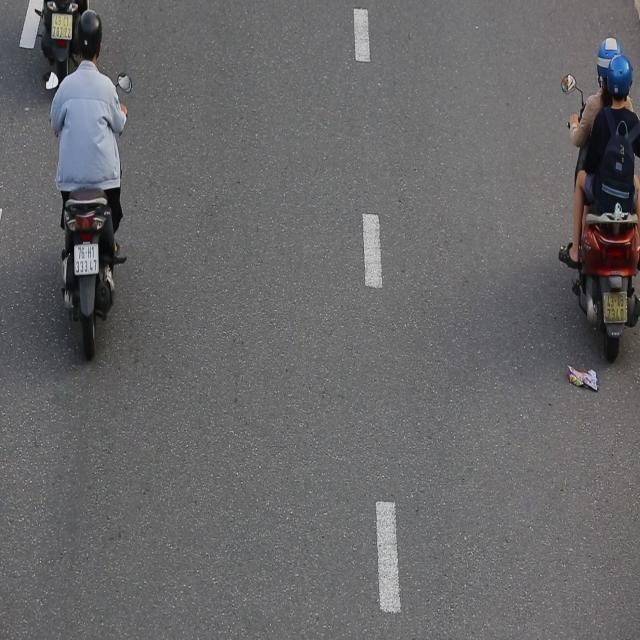motorbike: (43, 10, 136, 371), (556, 36, 638, 372)
